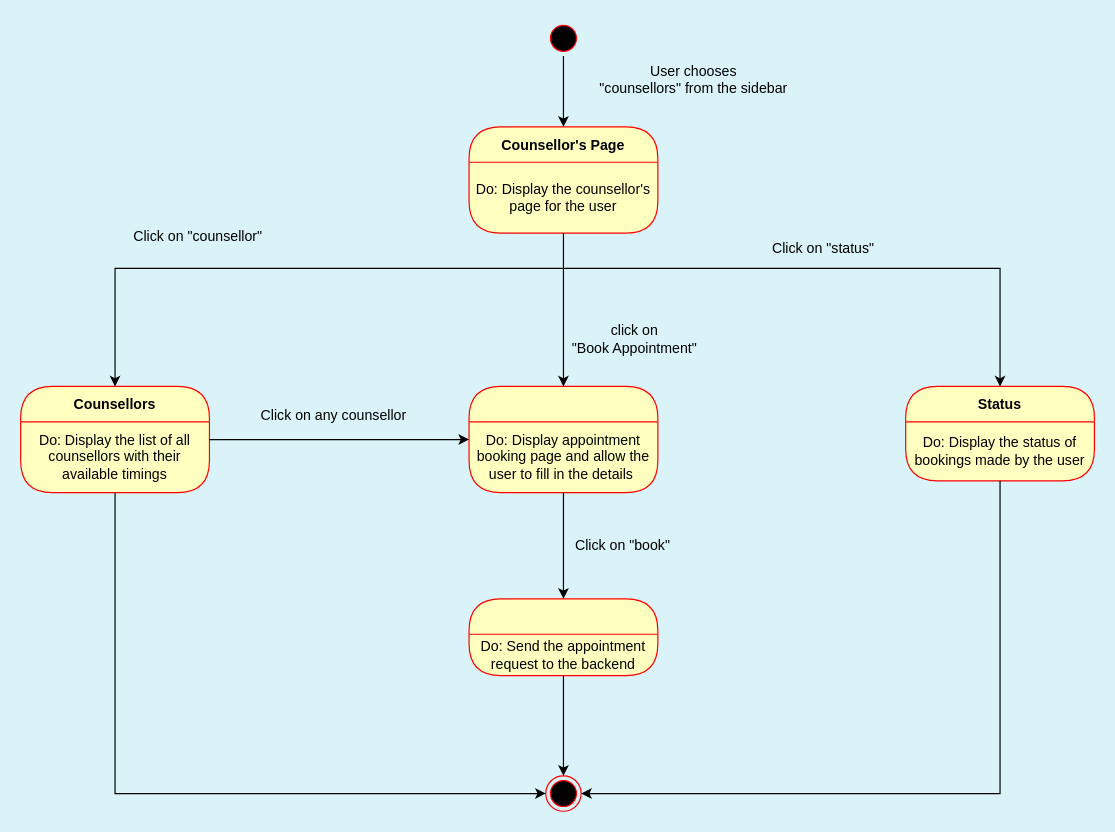
Image size: 1115x832. Some labels were removed from this diagram. The box of each missing label's shape, as (x1, y1, x2, y2) in pixels:
Book Appointment: (468, 385, 658, 493)
Send Request: (468, 598, 658, 676)
